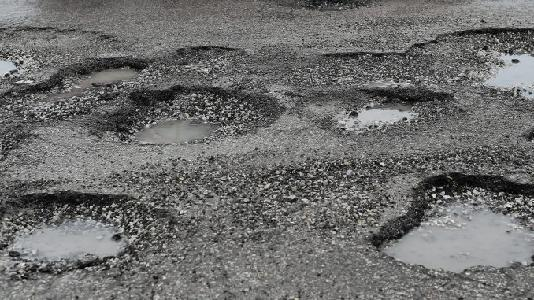pothole: (366, 170, 534, 275), (1, 187, 188, 276), (316, 27, 534, 90), (102, 84, 283, 151), (1, 55, 144, 133), (296, 87, 463, 139), (1, 25, 118, 53), (167, 44, 246, 68)
